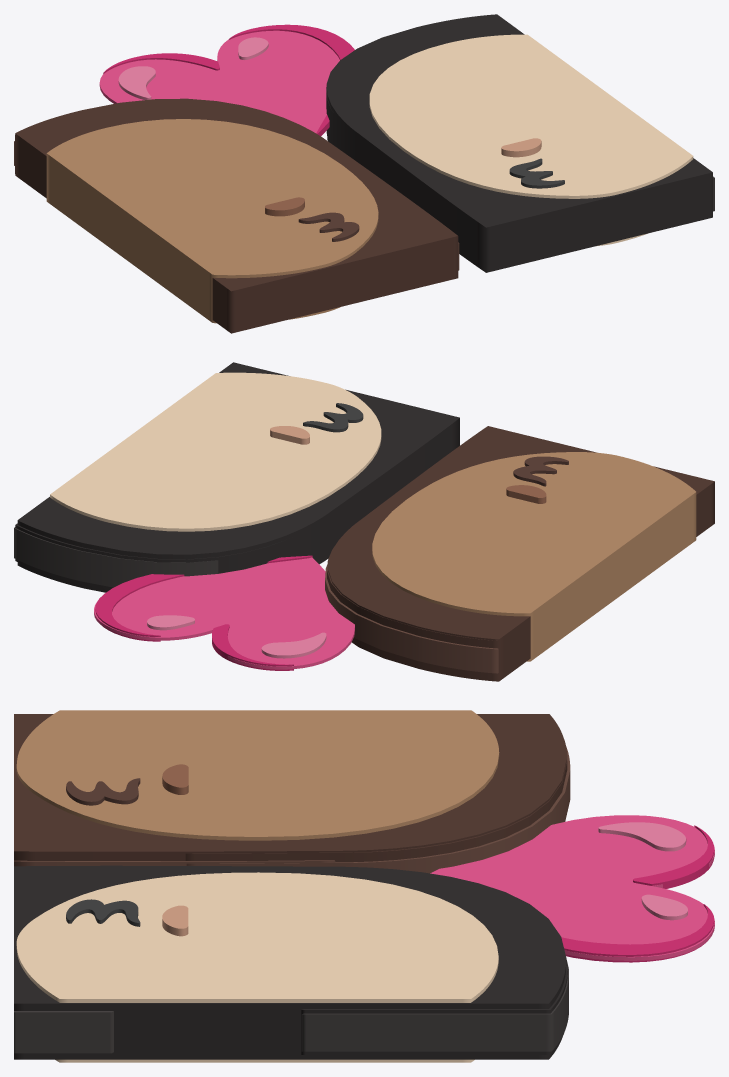
Rendered from emoji_u1f469_1f3fd_200d_2764_200d_1f48b_200d_1f469_1f3fb.glb.
3 renders of one model, top to bottom at view 1: azimuth 30°, elevation 25°; view 2: azimuth 150°, elevation 25°; view 3: azimuth 270°, elevation 25°, orthographic. The views are drawn at different scales.
Visible parts, largest first — view 1: emoji_u1f469_1f3fd_200d_2764_200d_1f48b_200d_1f469_1f3fb; view 2: emoji_u1f469_1f3fd_200d_2764_200d_1f48b_200d_1f469_1f3fb; view 3: emoji_u1f469_1f3fd_200d_2764_200d_1f48b_200d_1f469_1f3fb.
Boxes of the visible parts, x1=… form: emoji_u1f469_1f3fd_200d_2764_200d_1f48b_200d_1f469_1f3fb: x1=14, y1=14, x2=714, y2=333; emoji_u1f469_1f3fd_200d_2764_200d_1f48b_200d_1f469_1f3fb: x1=14, y1=362, x2=714, y2=681; emoji_u1f469_1f3fd_200d_2764_200d_1f48b_200d_1f469_1f3fb: x1=14, y1=710, x2=714, y2=1062.
Bounding box in the file's own units: 0.0336 × 0.0042 × 0.0339.
